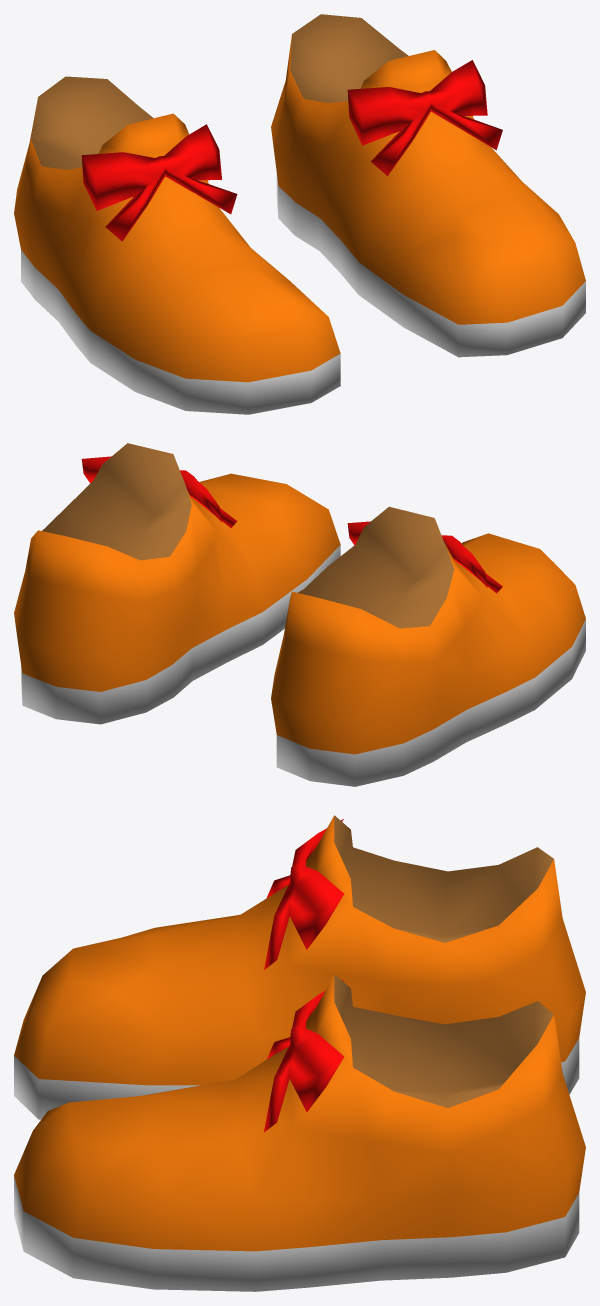
The model's file is F_Feet_Shoes_01.glb.
The picture shows the model from 3 angles, top to bottom: view 1: azimuth 30°, elevation 25°; view 2: azimuth 150°, elevation 25°; view 3: azimuth 270°, elevation 25°; orthographic projection. The views are drawn at different scales.
Parts seen in each view (by area): view 1: F_Feet_Shoes_01; view 2: F_Feet_Shoes_01; view 3: F_Feet_Shoes_01.
Boxes of the visible parts, x1,y1,x2,y2 form: F_Feet_Shoes_01: [14, 14, 585, 414]; F_Feet_Shoes_01: [14, 443, 585, 786]; F_Feet_Shoes_01: [14, 815, 585, 1291].
Size of what is drawn, in the model's own units: 0.9552 by 0.4076 by 0.8519.
Materials: 1 (1 with a texture image).
